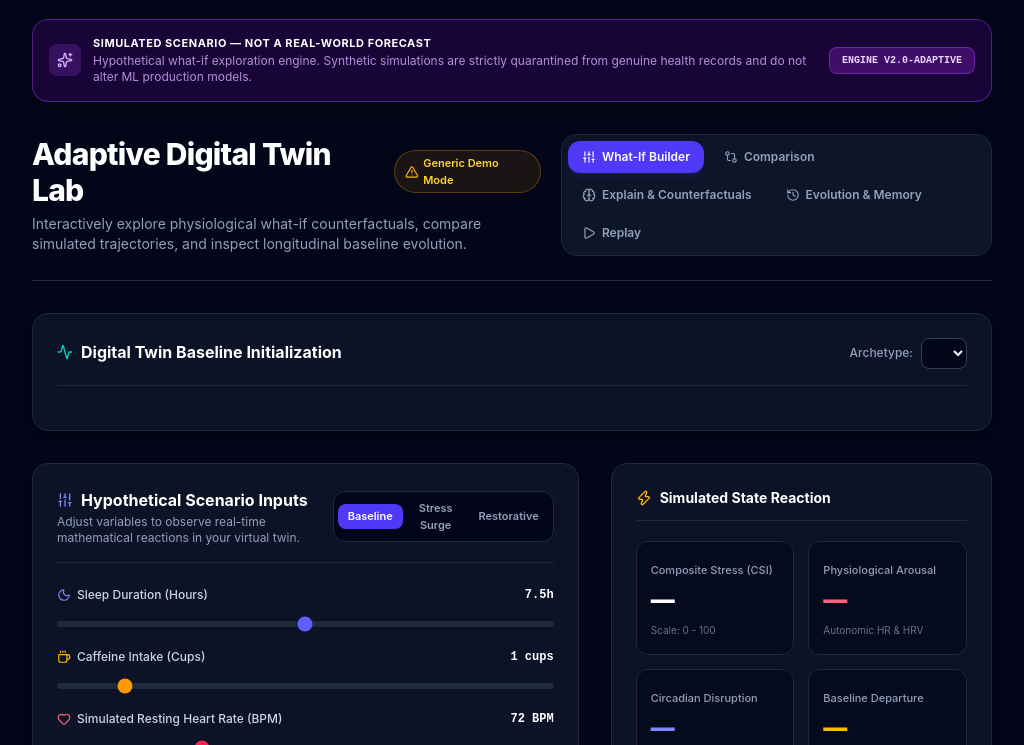
Adaptive Digital Twin & Longitudinal Evolution Engine (Frontend) › navigates to Explain & Counterfactuals tab and displays "Why Did the Digital Twin Change?" panel
Step 1. Click the button "Explain & Counterfactuals" → (667, 195), box [568,179,766,211]
(page scrolled)
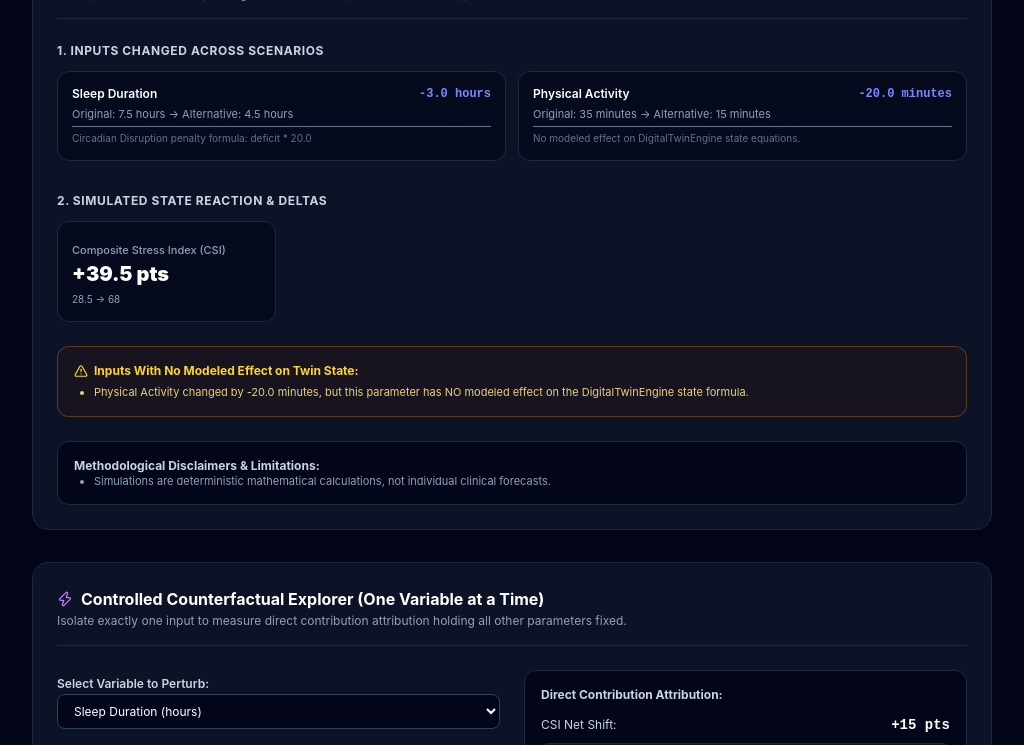
Expected: the text "Controlled Counterfactual Explorer (One Variable at a Time)" is shown, [81,588,544,612]
Expected: the text "Inputs With No Modeled Effect on Twin State:" is shown, [94,363,358,379]
